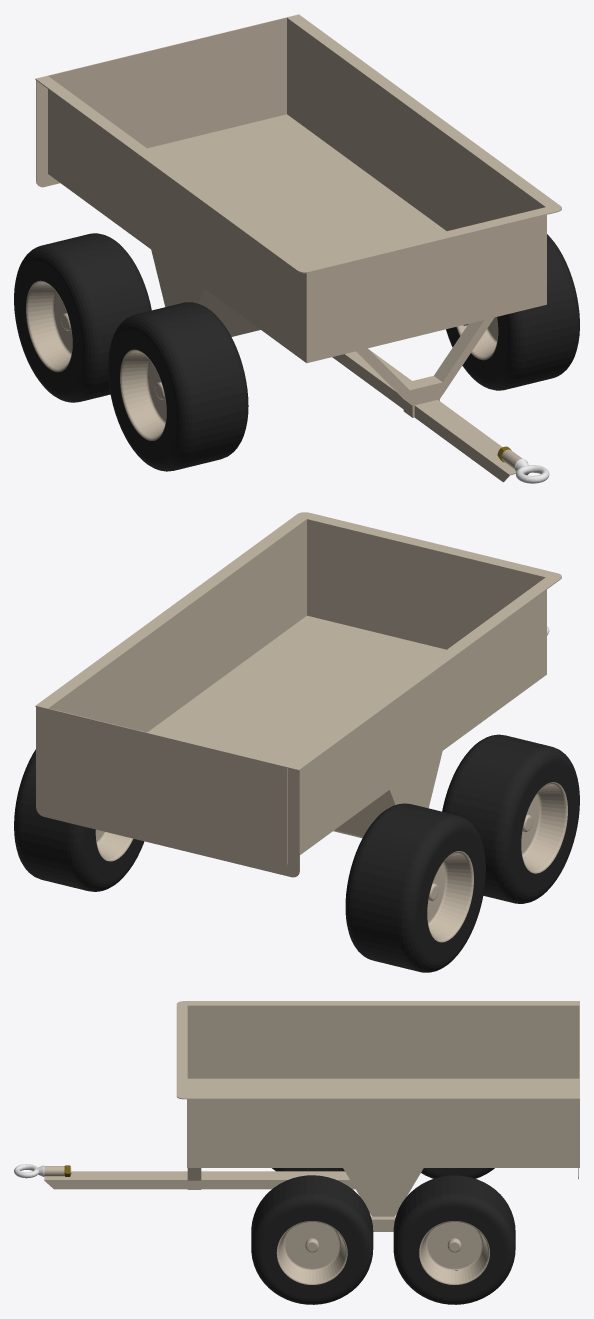
File: Trailer.fbx
3 views of the same model, one above another, from view 1: azimuth 30°, elevation 25°; view 2: azimuth 150°, elevation 25°; view 3: azimuth 270°, elevation 25° (orthographic). The views are drawn at different scales.
Parts seen in each view (by area): view 1: Trailer Body, Wheel RF, Wheel RR, Wheel LF, EYE BOLT; view 2: Trailer Body, Wheel RR, Wheel RF, Wheel LR; view 3: Trailer Body, Wheel LR, Wheel LF, Wheel RR.
Boxes of the visible parts, left/top/right/bottom form: Trailer Body: left=35, top=14, right=561, bottom=482; Wheel RF: left=108, top=302, right=248, bottom=471; Wheel RR: left=14, top=233, right=151, bottom=402; Wheel LF: left=446, top=234, right=579, bottom=390; EYE BOLT: left=514, top=458, right=549, bottom=483; Trailer Body: left=35, top=512, right=561, bottom=877; Wheel RR: left=345, top=803, right=485, bottom=972; Wheel RF: left=442, top=734, right=579, bottom=903; Wheel LR: left=14, top=749, right=144, bottom=891; Trailer Body: left=44, top=1001, right=579, bottom=1216; Wheel LR: left=393, top=1175, right=515, bottom=1304; Wheel LF: left=251, top=1175, right=373, bottom=1304; Wheel RR: left=421, top=1168, right=494, bottom=1178.
Bounding box in the file's own units: 1.31 × 0.7619 × 2.12.
